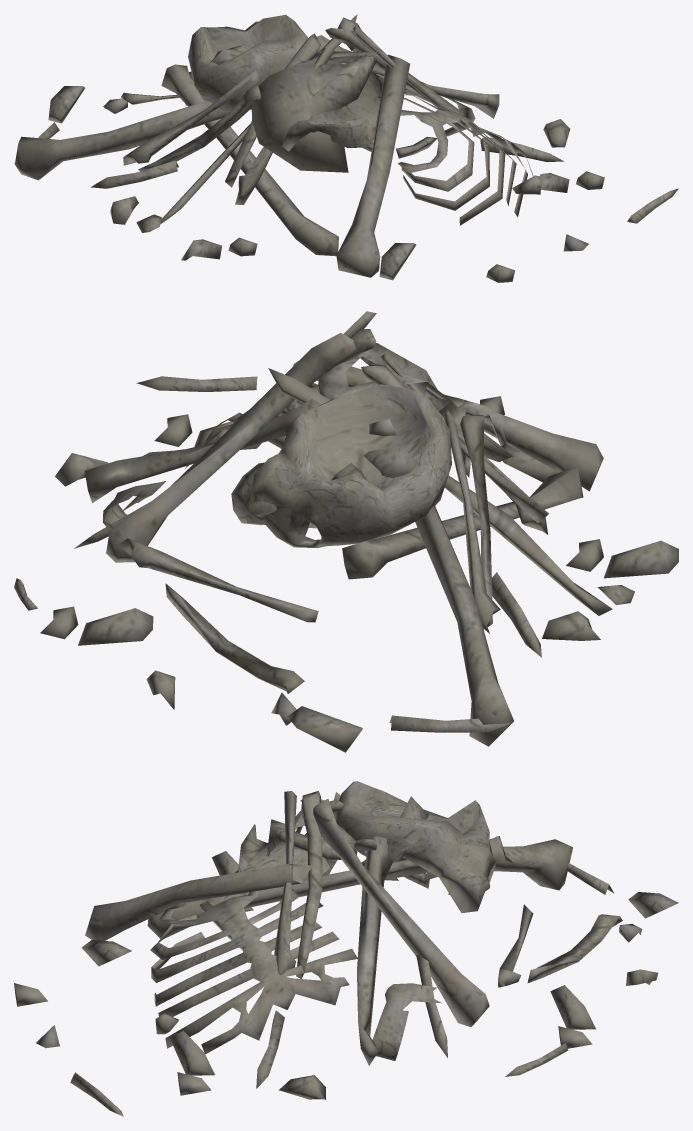
The model's file is bones.dae.
3 views of the same model, one above another, from view 1: azimuth 30°, elevation 25°; view 2: azimuth 150°, elevation 25°; view 3: azimuth 270°, elevation 25° (orthographic). The views are drawn at different scales.
Visible parts, largest first — view 1: mesh4; view 2: mesh4; view 3: mesh4.
Boxes of the visible parts, <box> form: mesh4: <box>14,14,678,282</box>; mesh4: <box>14,311,678,752</box>; mesh4: <box>14,781,678,1116</box>.
Size of the model in its own units: 3.02 by 3.28 by 1.14.
Materials: 1 (1 with a texture image).
